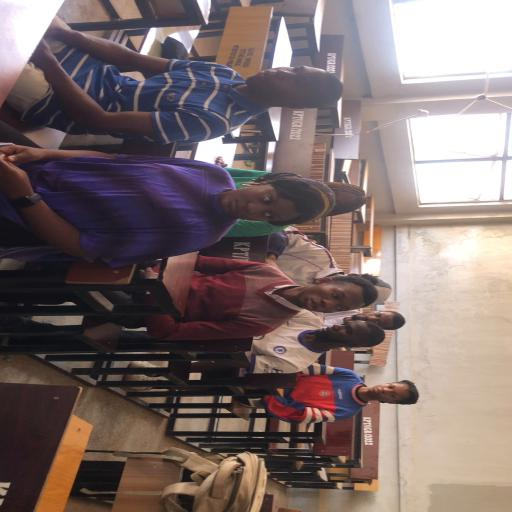Eating: (0, 144, 370, 268)
